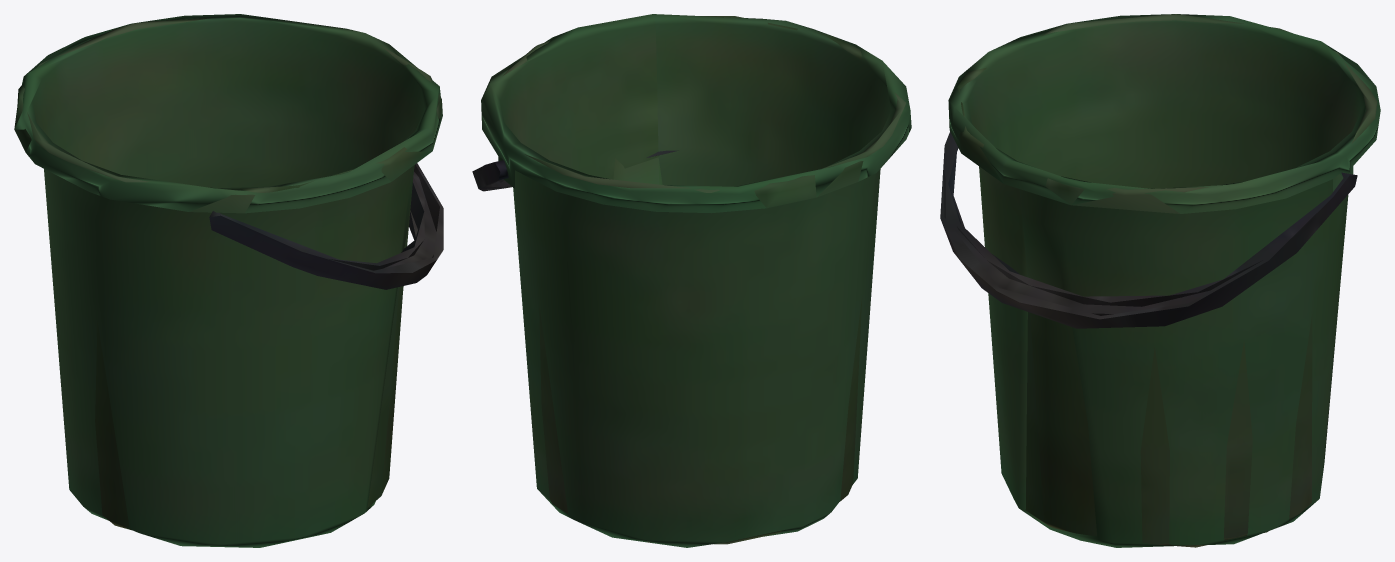
Rendered from bw-bucket.lod0.glb.
3 views of the same model, side by side, from view 1: azimuth 30°, elevation 25°; view 2: azimuth 150°, elevation 25°; view 3: azimuth 270°, elevation 25° (orthographic).
Visible parts, largest first — view 1: Object_32; view 2: Object_32; view 3: Object_32.
Boxes of the visible parts, bbox=[...] form: Object_32: bbox=[14, 14, 443, 547]; Object_32: bbox=[472, 14, 911, 547]; Object_32: bbox=[940, 14, 1380, 547].
Size of the model in its own units: 0.3128 by 0.3 by 0.3106.
1 material, 1 textured.
